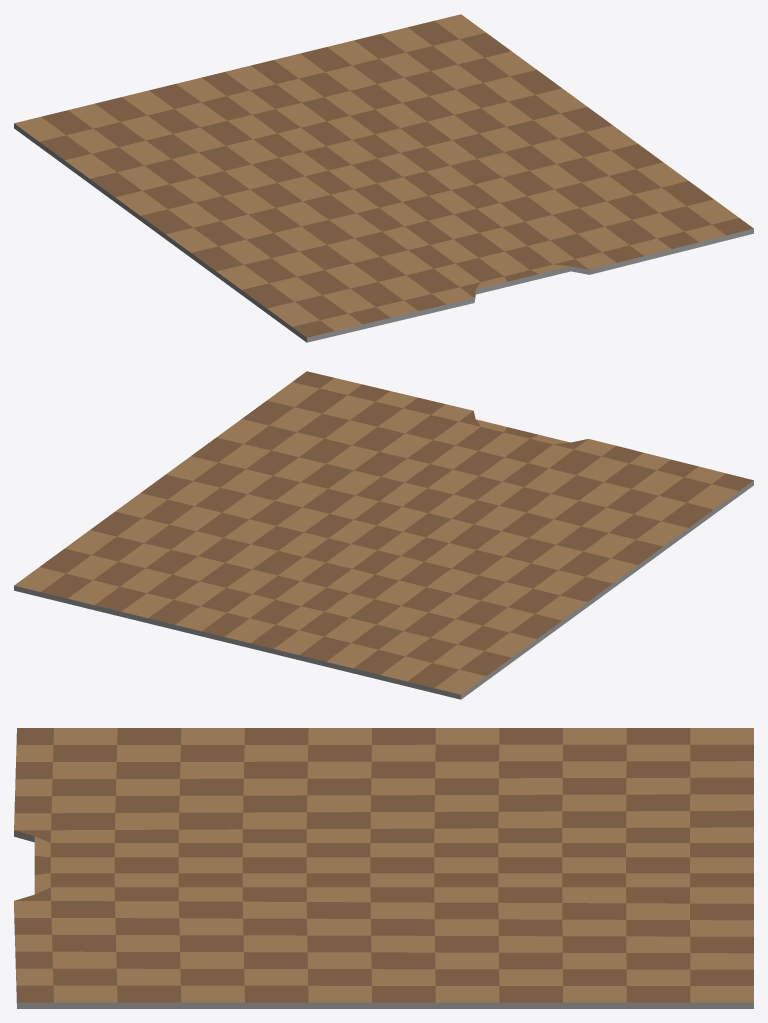
Rendered from Floor.fbx.
3 views of the same model, one above another, from view 1: azimuth 30°, elevation 25°; view 2: azimuth 150°, elevation 25°; view 3: azimuth 270°, elevation 25° (orthographic). The views are drawn at different scales.
Visible parts, largest first — view 1: pCube3; view 2: pCube3; view 3: pCube3.
Boxes of the visible parts, box(x1,y1,x2,y2) form: pCube3: box(14, 14, 753, 342); pCube3: box(14, 371, 753, 699); pCube3: box(14, 728, 753, 1008).
Bounding box in the file's own units: 28 × 0.3023 × 31.9.
